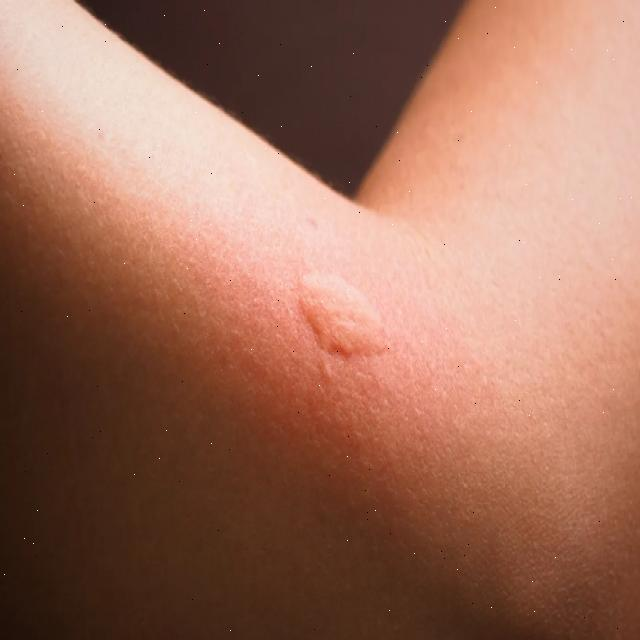sinek: (290, 257, 390, 381)
